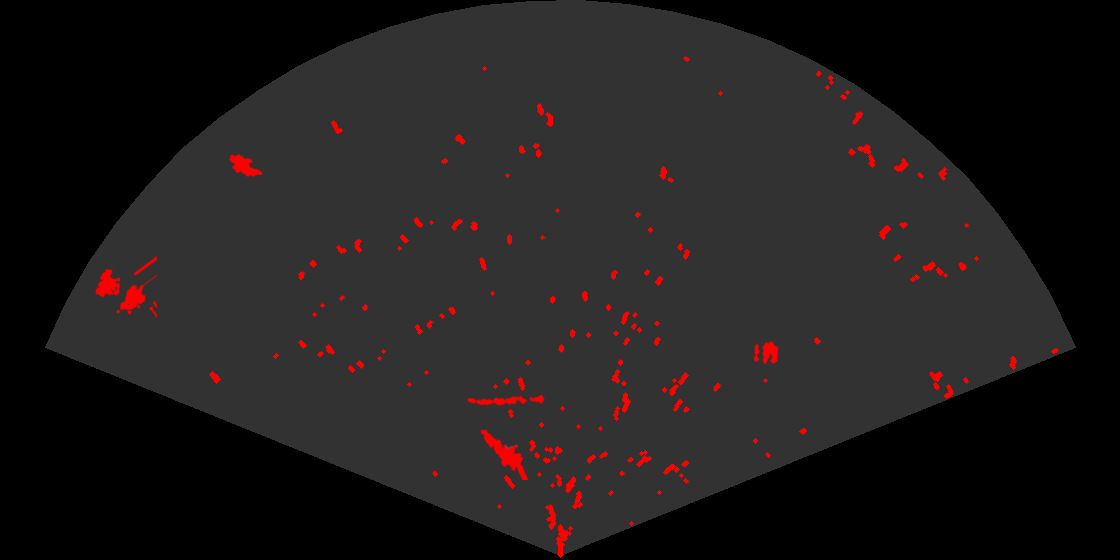AUV: (227, 152, 264, 179)
ball: (752, 340, 780, 366)
cage: (94, 254, 157, 320)
chain: (466, 393, 545, 407)
frogman: (476, 416, 530, 480)
